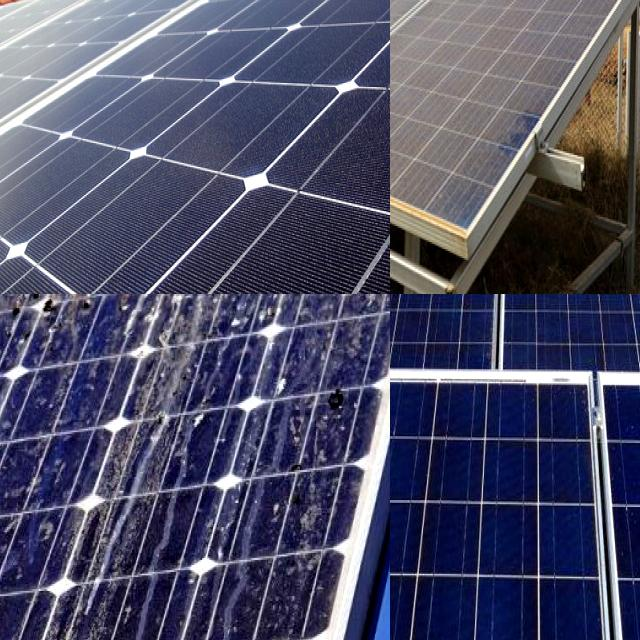bird: (0, 308, 29, 409), (0, 294, 99, 322), (316, 370, 354, 430), (188, 294, 239, 329), (314, 294, 384, 319), (294, 456, 315, 529), (0, 294, 29, 338), (0, 354, 17, 394)
crack: (390, 368, 632, 640), (496, 294, 640, 426), (390, 294, 510, 420), (448, 294, 595, 349), (390, 294, 475, 351), (390, 294, 470, 351), (560, 294, 640, 350)
dust: (390, 48, 494, 183), (0, 0, 170, 70), (0, 83, 43, 242), (390, 0, 431, 140), (490, 0, 595, 48), (487, 0, 640, 29), (390, 0, 451, 69), (390, 0, 483, 26)
